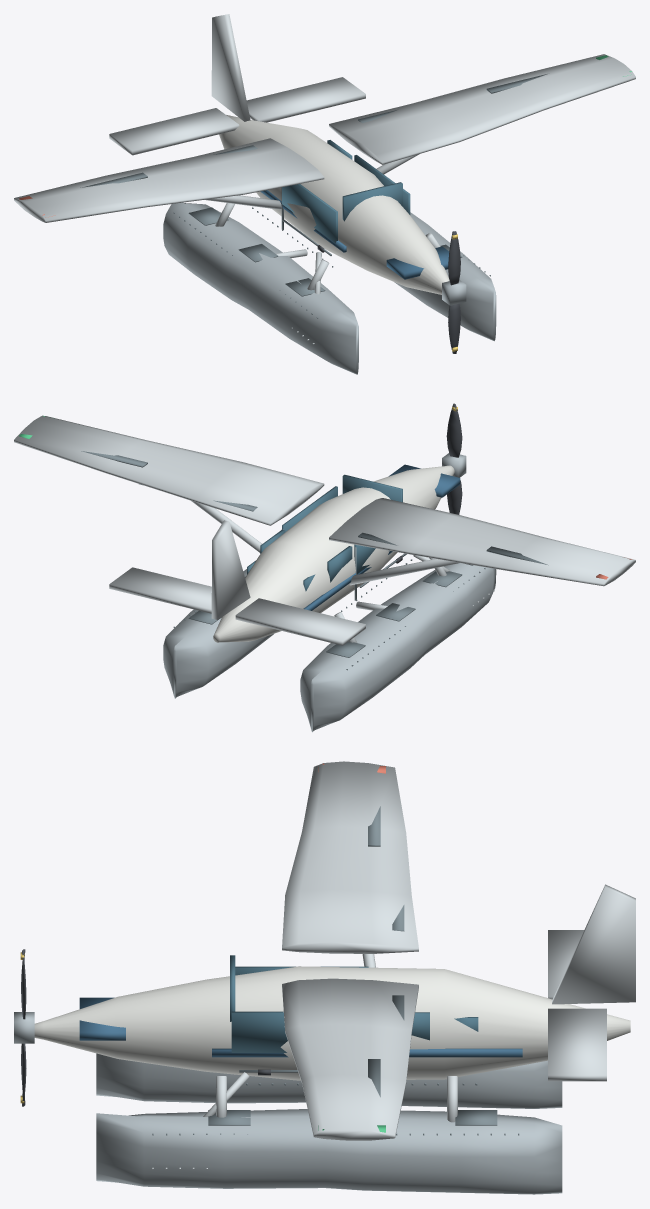
File: cessna185-floats.glb
3 renders of one model, top to bottom at view 1: azimuth 30°, elevation 25°; view 2: azimuth 150°, elevation 25°; view 3: azimuth 270°, elevation 25°, orthographic. The views are drawn at different scales.
Visible parts, largest first — view 1: Edo-style float -1, High wing 35ft10in 1, Skywagon elliptical riveted fuselage, High wing 35ft10in -1, Edo-style float 1, empennage -1, empennage 1, Skywagon shaped swept fin, cockpit glazing -1, windscreen, front cowling stripe, wing lift strut -1 (+3 smaller); view 2: High wing 35ft10in 1, Edo-style float -1, High wing 35ft10in -1, Skywagon elliptical riveted fuselage, Edo-style float 1, empennage -1, empennage 1, Skywagon shaped swept fin, wing lift strut -1, windscreen, starboard propeller blade, wing lift strut 1 (+3 smaller); view 3: Edo-style float 1, Skywagon elliptical riveted fuselage, High wing 35ft10in -1, High wing 35ft10in 1, Edo-style float -1, Skywagon shaped swept fin, empennage 1, cockpit glazing 1, fuselage side blue stripe 1, empennage -1, front cowling stripe, float upper inspection hatch 1 -1.75 (+1 smaller).
Boxes of the visible parts, <box> form: Edo-style float -1: <box>163,202,358,374</box>; High wing 35ft10in 1: <box>329,54,635,164</box>; Skywagon elliptical riveted fuselage: <box>219,115,449,294</box>; High wing 35ft10in -1: <box>14,138,324,222</box>; Edo-style float 1: <box>394,212,496,341</box>; empennage -1: <box>109,108,239,155</box>; empennage 1: <box>246,77,365,122</box>; Skywagon shaped swept fin: <box>211,14,250,121</box>; cockpit glazing -1: <box>282,184,337,243</box>; windscreen: <box>342,182,402,221</box>; front cowling stripe: <box>386,246,449,279</box>; wing lift strut -1: <box>204,195,281,209</box>; High wing 35ft10in 1: <box>14,416,324,525</box>; Edo-style float -1: <box>300,563,496,732</box>; High wing 35ft10in -1: <box>329,498,635,586</box>; Skywagon elliptical riveted fuselage: <box>213,465,454,642</box>; Edo-style float 1: <box>163,569,273,698</box>; empennage -1: <box>235,598,365,645</box>; empennage 1: <box>109,567,211,613</box>; Skywagon shaped swept fin: <box>211,520,250,619</box>; wing lift strut -1: <box>349,558,459,585</box>; windscreen: <box>342,474,402,502</box>; starboard propeller blade: <box>446,403,462,457</box>; wing lift strut 1: <box>191,500,261,552</box>; Edo-style float 1: <box>96,1109,562,1194</box>; Skywagon elliptical riveted fuselage: <box>34,966,630,1080</box>; High wing 35ft10in -1: <box>282,761,418,953</box>; High wing 35ft10in 1: <box>282,978,418,1140</box>; Edo-style float -1: <box>96,1053,562,1108</box>; Skywagon shaped swept fin: <box>552,884,635,1004</box>; empennage 1: <box>548,1008,606,1081</box>; cockpit glazing 1: <box>231,1011,287,1052</box>; fuselage side blue stripe 1: <box>212,1048,522,1057</box>; empennage -1: <box>548,930,584,999</box>; front cowling stripe: <box>79,997,125,1040</box>; float upper inspection hatch 1 -1.75: <box>455,1110,497,1125</box>.
Size of the model in its own units: 10.92 by 3.67 by 7.81.
